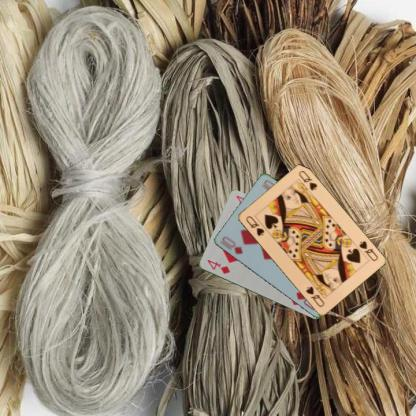10d: (217, 233, 244, 256)
4d: (205, 257, 231, 275)
Qs: (243, 213, 265, 238), (357, 238, 379, 262)
